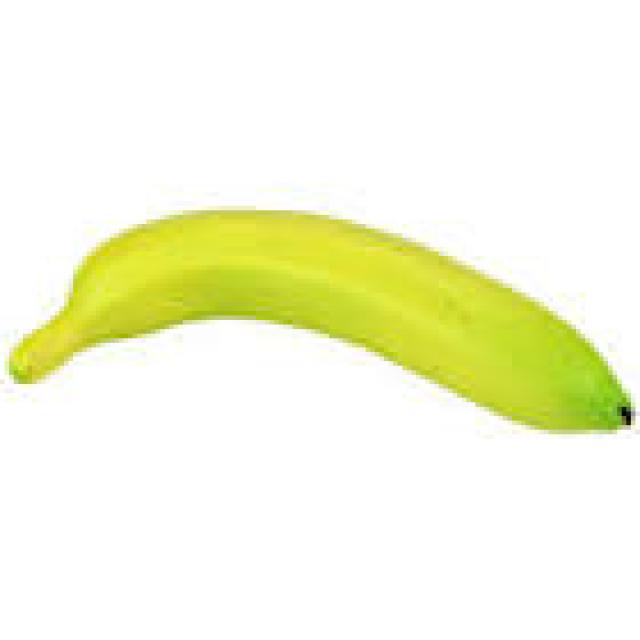banana: (10, 211, 630, 429)
